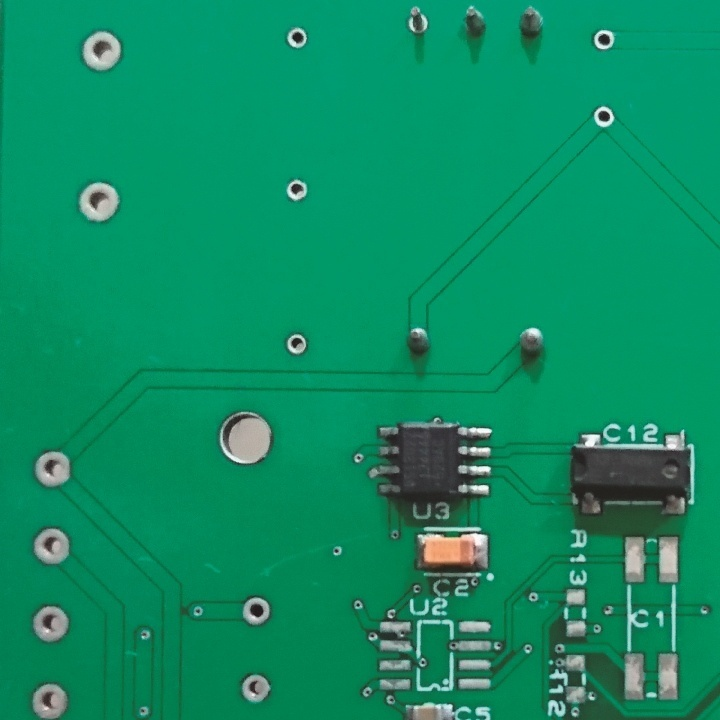F: (77, 28, 124, 74), (73, 180, 122, 223), (30, 524, 71, 570), (30, 448, 73, 489), (30, 603, 71, 645), (28, 682, 72, 720), (239, 669, 276, 706), (241, 594, 274, 631), (402, 4, 431, 39), (282, 330, 313, 359), (282, 176, 311, 204), (590, 27, 616, 56), (591, 102, 617, 130), (284, 25, 311, 50)
